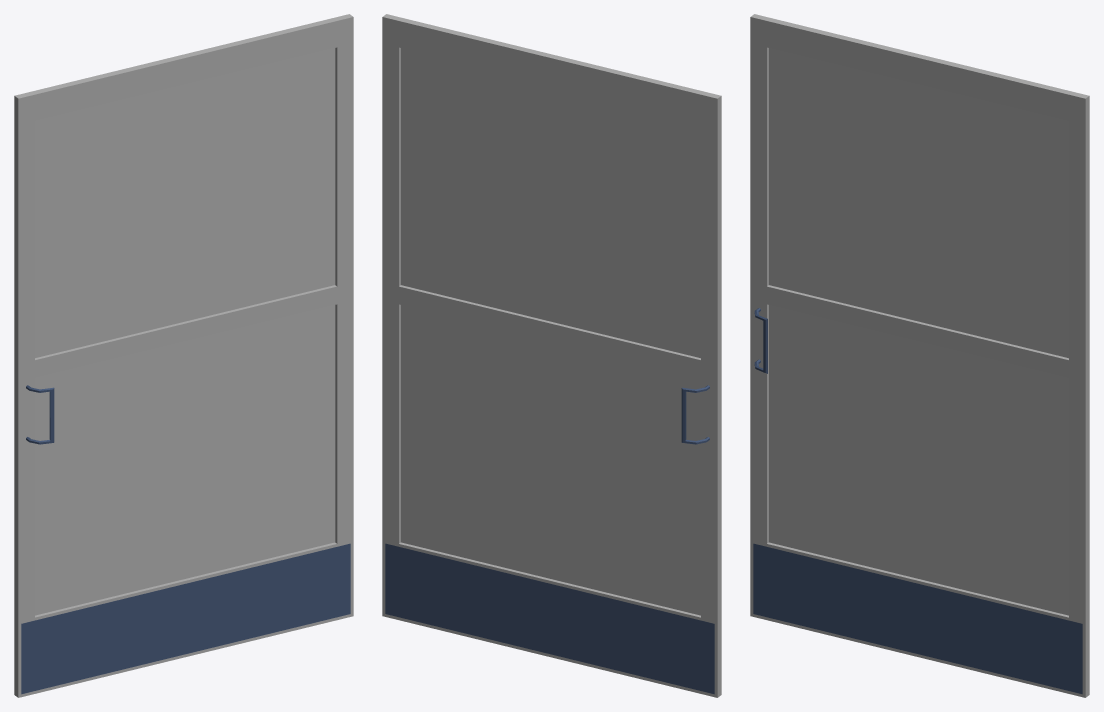
The model's file is SW_corridor__R_lobby_R_Aula_Ovi_020.FBX.
3 renders of one model, left to right at view 1: azimuth 30°, elevation 25°; view 2: azimuth 150°, elevation 25°; view 3: azimuth 330°, elevation 25°, orthographic.
Visible parts, largest first — view 1: SW_corridor__R_lobby_R_Aula_Ovi_020; view 2: SW_corridor__R_lobby_R_Aula_Ovi_020; view 3: SW_corridor__R_lobby_R_Aula_Ovi_020.
Part boxes in pixels (x1,y1,x2,y2): SW_corridor__R_lobby_R_Aula_Ovi_020: (14, 14, 353, 697); SW_corridor__R_lobby_R_Aula_Ovi_020: (382, 14, 721, 697); SW_corridor__R_lobby_R_Aula_Ovi_020: (750, 14, 1089, 697).
Bounding box in the file's own units: 120 × 14.61 × 205.
